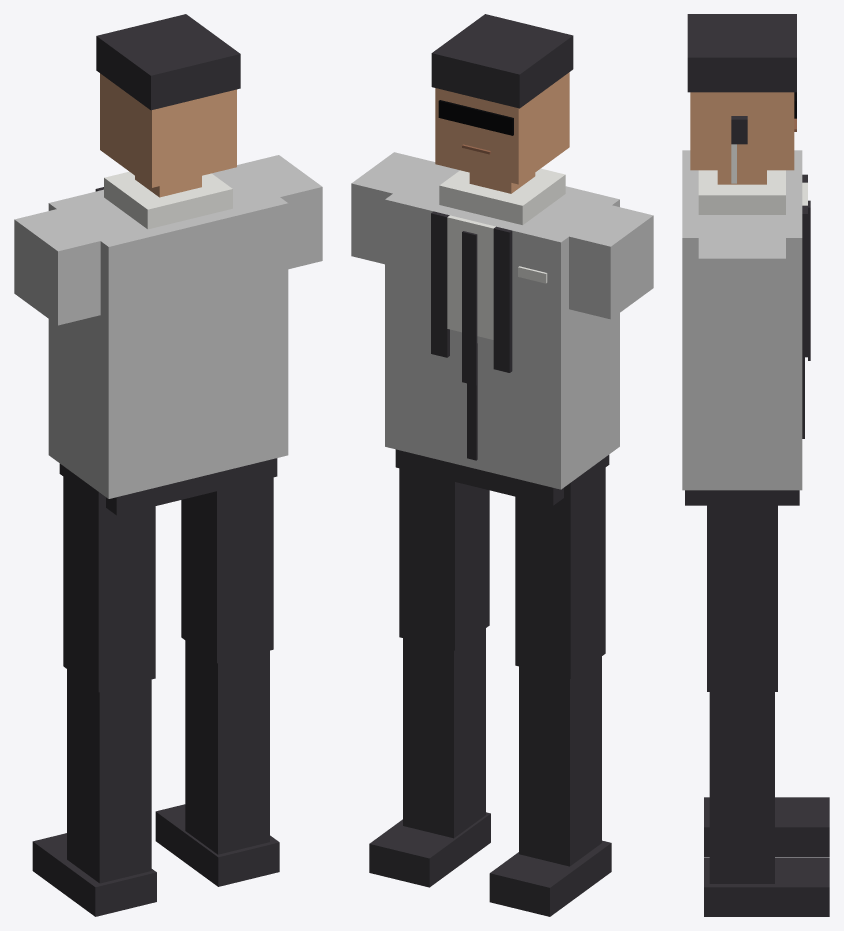
The model's file is AGENT.gltf.
The picture shows the model from 3 angles, left to right: view 1: azimuth 30°, elevation 25°; view 2: azimuth 150°, elevation 25°; view 3: azimuth 270°, elevation 25°; orthographic projection. The views are drawn at different scales.
Parts seen in each view (by area): view 1: AGENT; view 2: AGENT; view 3: AGENT.
Boxes of the visible parts, x1,y1,x2,y2 form: AGENT: [14, 14, 322, 916]; AGENT: [351, 14, 653, 916]; AGENT: [682, 14, 829, 916].
Size of the model in its own units: 0.56 by 1.69 by 0.27.
